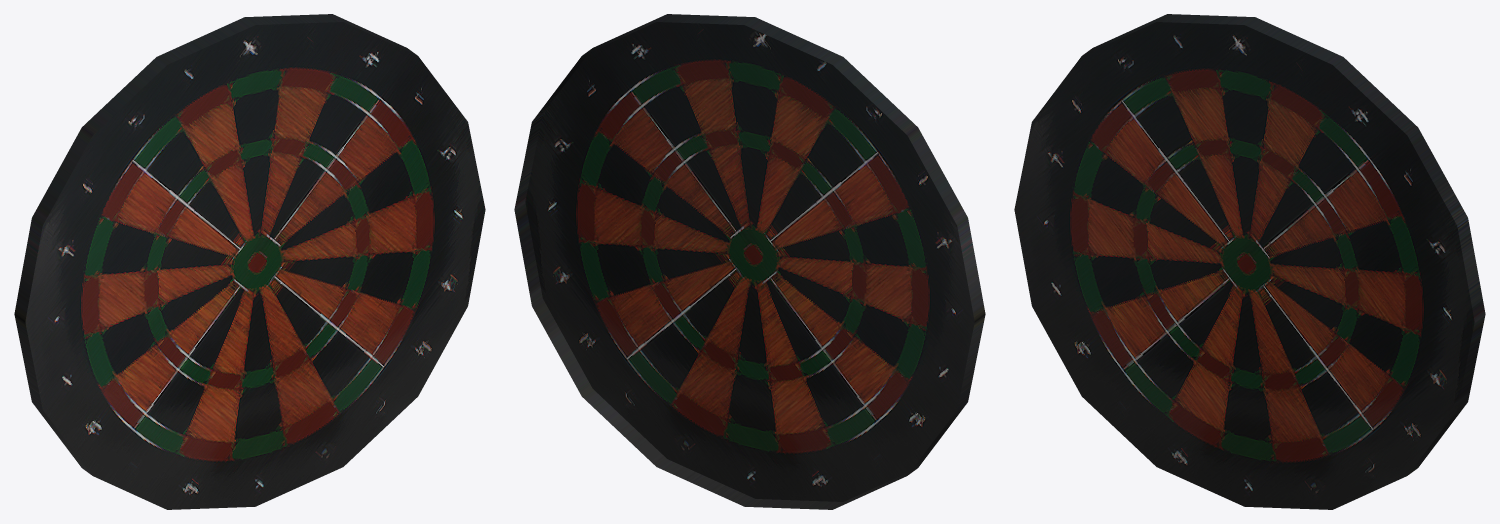
The model's file is Dardo.FBX.
3 views of the same model, side by side, from view 1: azimuth 30°, elevation 25°; view 2: azimuth 150°, elevation 25°; view 3: azimuth 330°, elevation 25° (orthographic).
Parts seen in each view (by area): view 1: Dardo; view 2: Dardo; view 3: Dardo.
Part boxes in pixels (x1,y1,x2,y2): Dardo: (14,14,485,509); Dardo: (514,14,985,509); Dardo: (1014,14,1485,509).
Size of the model in its own units: 48.99 by 48.99 by 2.
